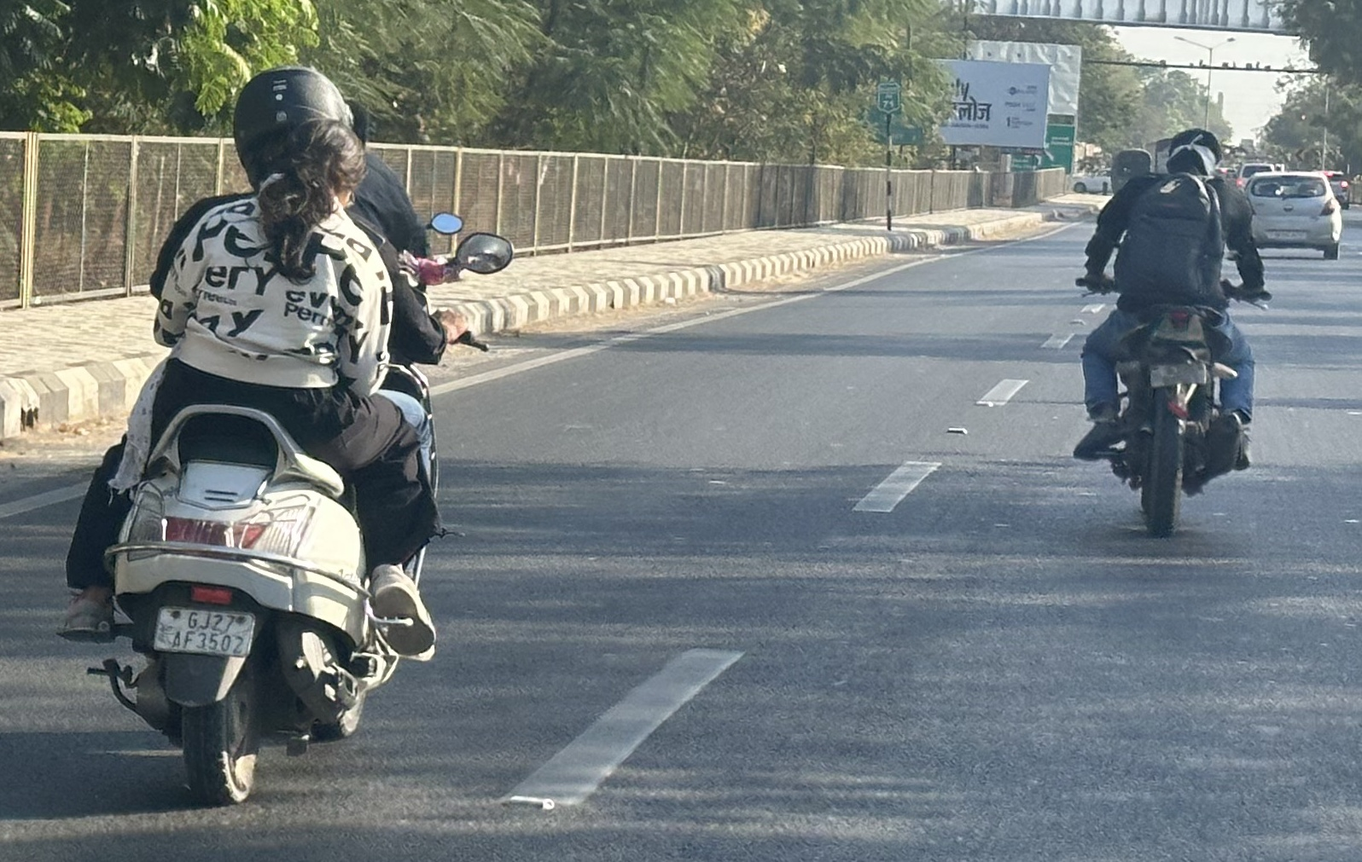BikeWithRider: (44, 53, 523, 818), (1060, 119, 1280, 545)
Helmet: (220, 57, 365, 200)
NoHelmet: (1161, 124, 1223, 182)
